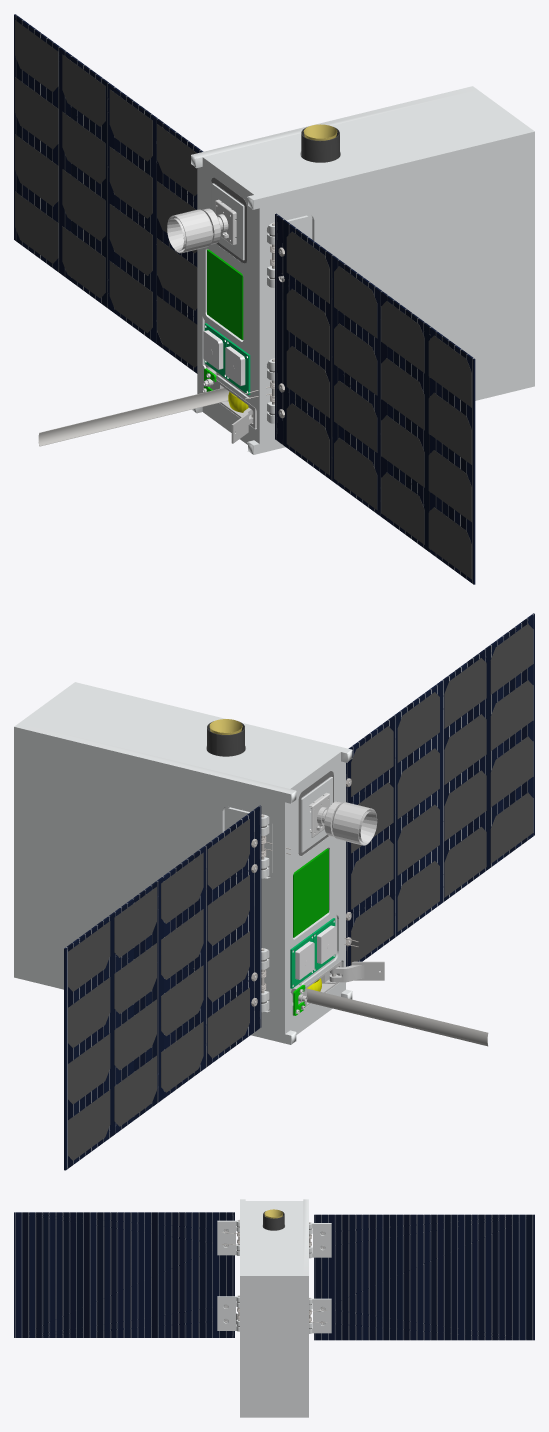
Rendered from Verra.glb.
The picture shows the model from 3 angles, top to bottom: view 1: azimuth 30°, elevation 25°; view 2: azimuth 150°, elevation 25°; view 3: azimuth 270°, elevation 25°; orthographic projection. The views are drawn at different scales.
Visible parts, largest first — view 1: Geode, OpticalSensor_02, CrossRecess_Cover; view 2: Geode, OpticalSensor_02, CrossRecess_Cover; view 3: Geode.
Part boxes in pixels (x1,y1,x2,y2): Geode: (14,14,534,584); OpticalSensor_02: (167,199,236,253); CrossRecess_Cover: (212,183,244,260); Geode: (14,613,534,1170); OpticalSensor_02: (309,792,377,845); CrossRecess_Cover: (301,777,332,852); Geode: (14,1199,534,1417).
Bounding box in the file's own units: 5.61 × 3.25 × 9.95.
26 materials, 1 textured.
